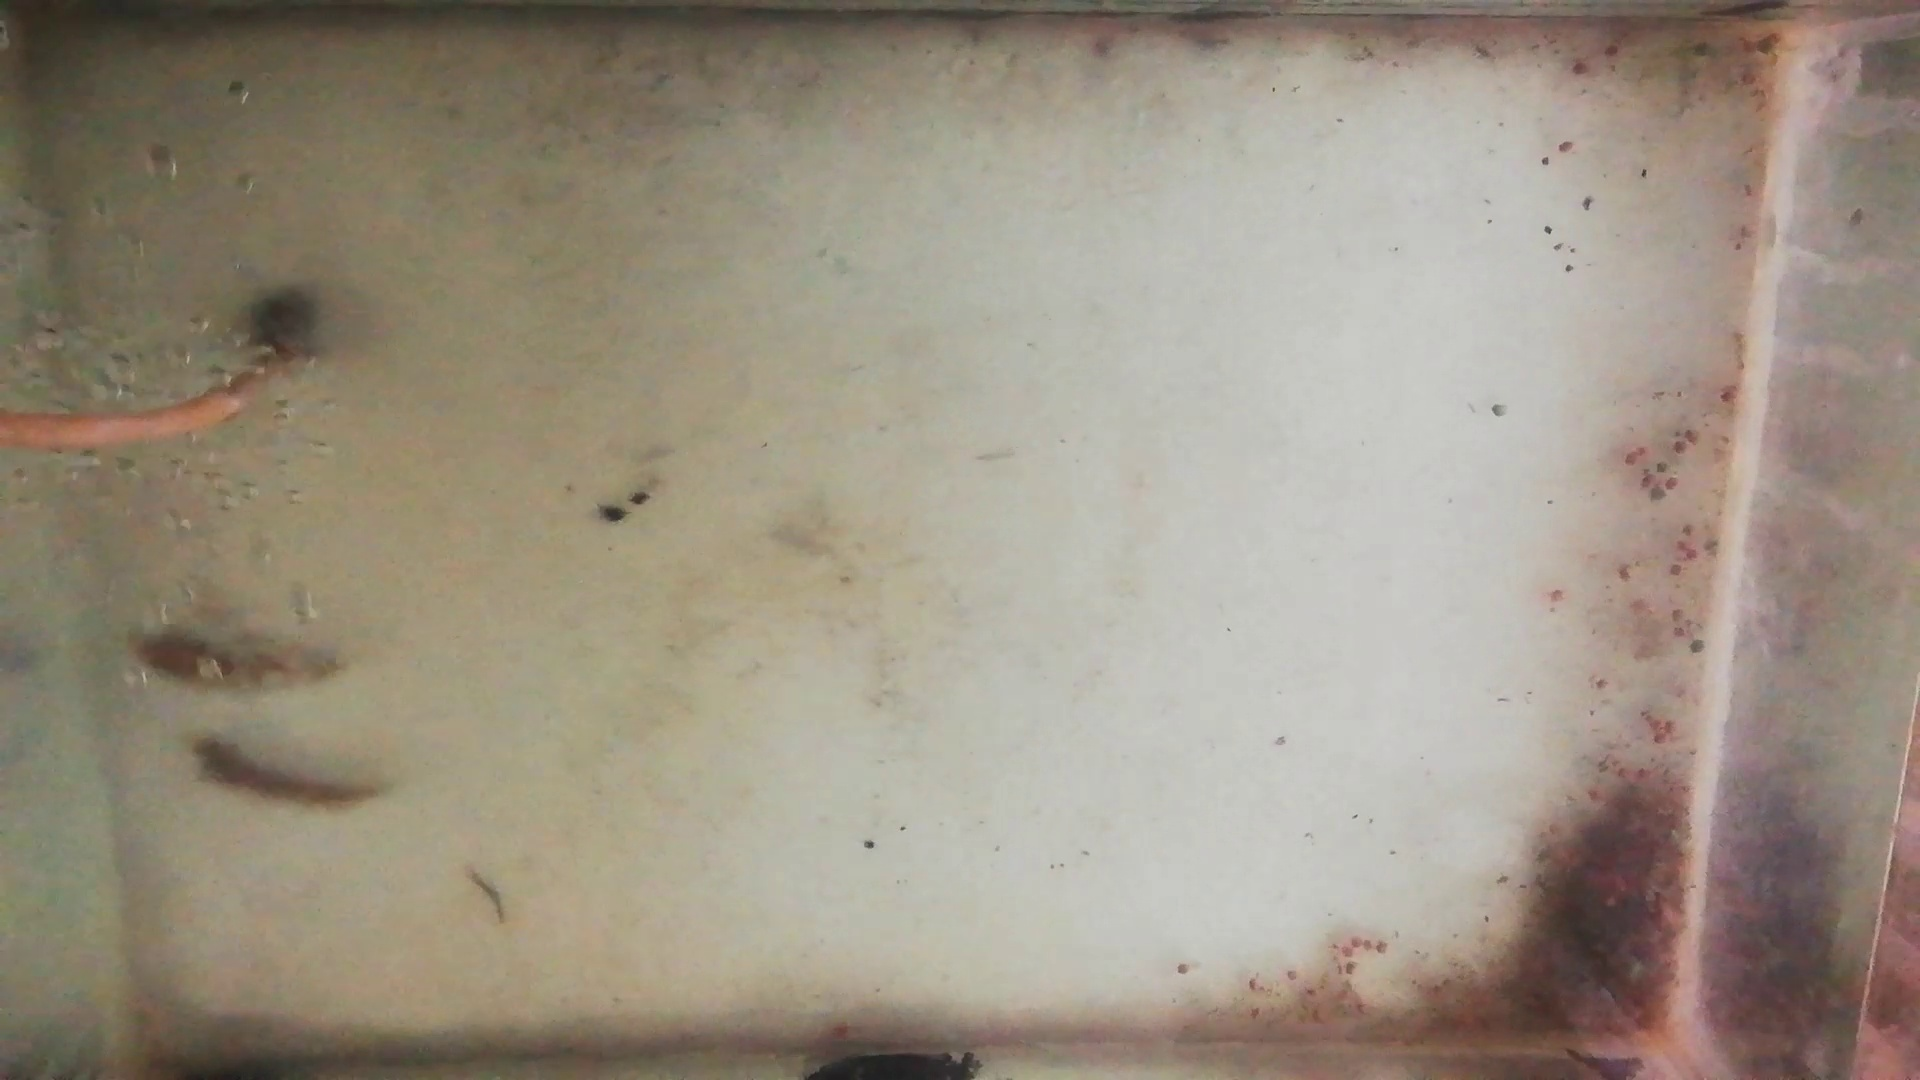fish: (186, 731, 389, 810), (131, 626, 348, 692)
